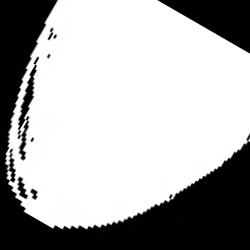spot: (6, 2, 248, 229)
